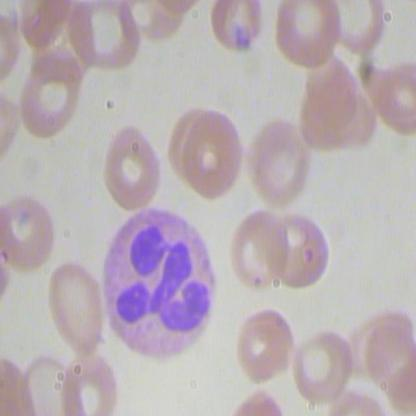RBC: (17, 50, 86, 144), (290, 316, 357, 410), (48, 259, 110, 360), (226, 199, 293, 292), (270, 203, 337, 296), (246, 115, 308, 214), (182, 106, 244, 198), (102, 122, 163, 212), (1, 181, 60, 272), (233, 305, 295, 388), (275, 1, 341, 70), (324, 1, 390, 57), (206, 1, 270, 55)
WBC: (98, 206, 219, 369)
